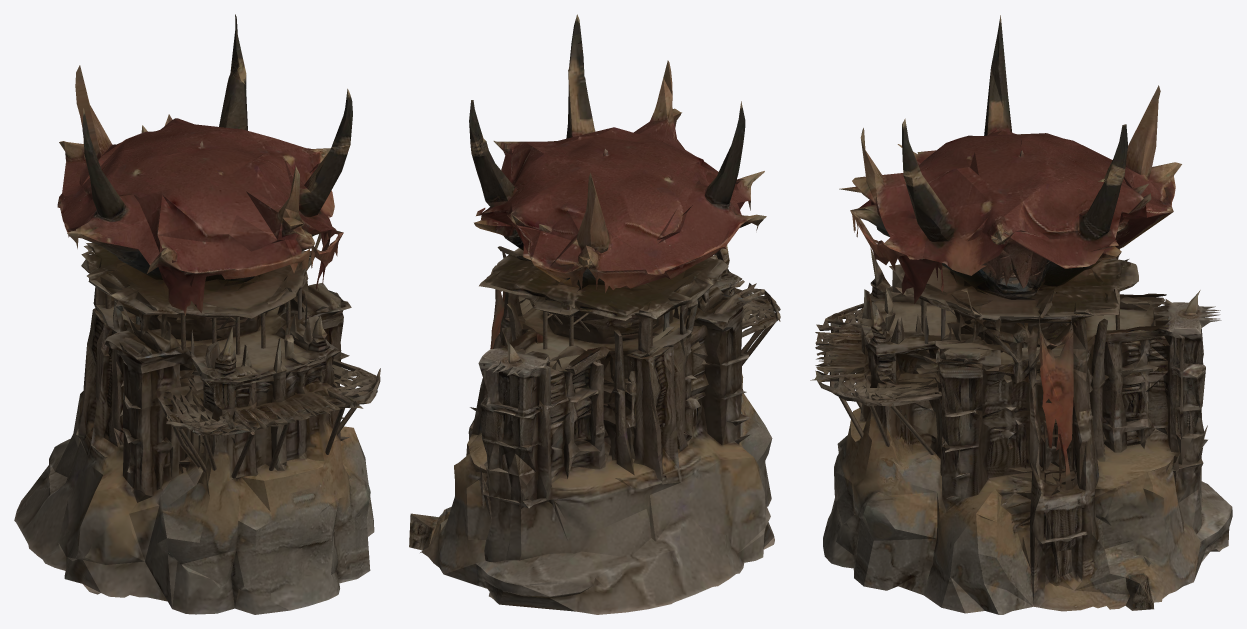
File: orc tower.fbx
3 views of the same model, side by side, from view 1: azimuth 30°, elevation 25°; view 2: azimuth 150°, elevation 25°; view 3: azimuth 270°, elevation 25° (orthographic). The views are drawn at different scales.
Parts seen in each view (by area): view 1: orc_tower; view 2: orc_tower; view 3: orc_tower.
Part boxes in pixels (<box>): orc_tower: <box>14,14,380,614</box>; orc_tower: <box>409,14,780,614</box>; orc_tower: <box>810,15,1232,614</box>.
Size of the model in its own units: 140 by 208 by 171.
1 material, 1 textured.
